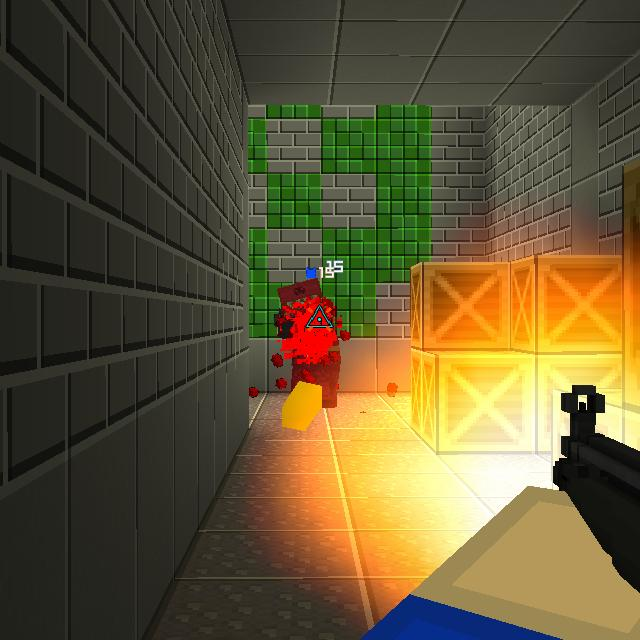enemy: (273, 277, 343, 409)
